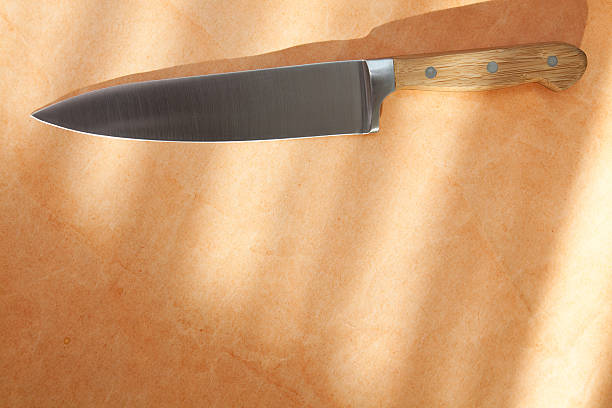knife: (27, 39, 590, 145)
